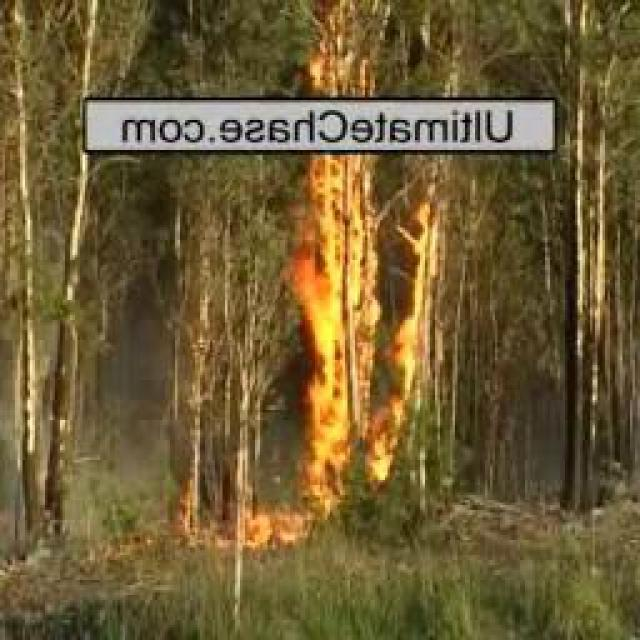Fire: (294, 156, 443, 492), (306, 14, 375, 94), (225, 502, 312, 554)
